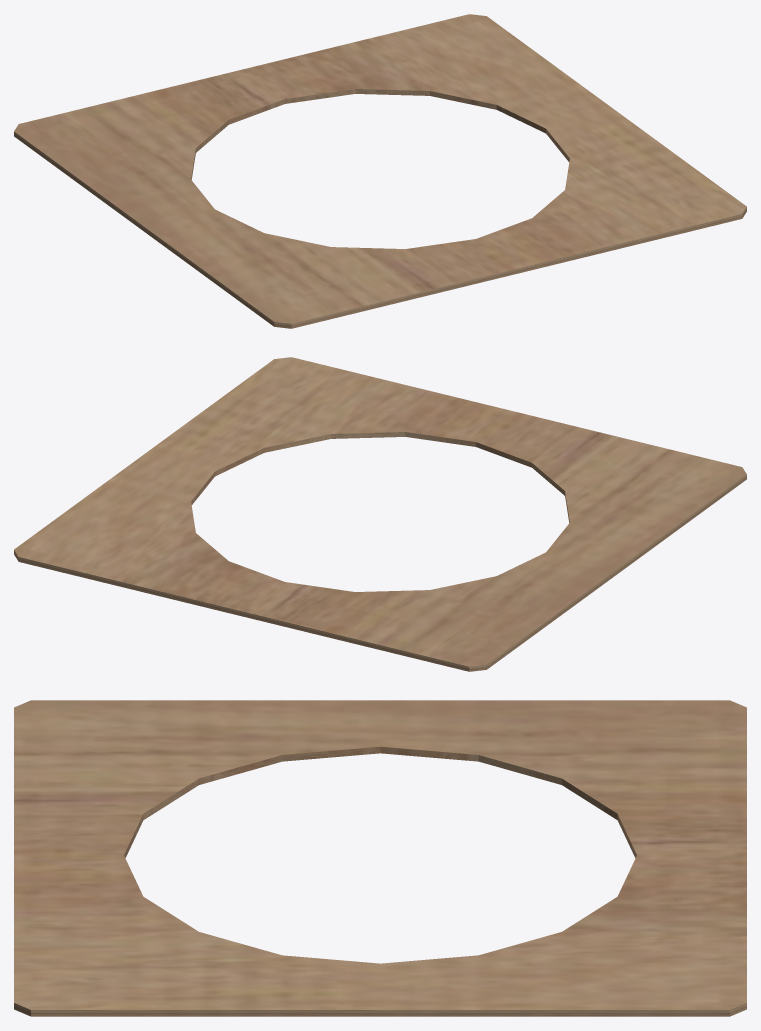
The model's file is holder_base_top.obj.
3 views of the same model, one above another, from view 1: azimuth 30°, elevation 25°; view 2: azimuth 150°, elevation 25°; view 3: azimuth 270°, elevation 25° (orthographic). The views are drawn at different scales.
Visible parts, largest first — view 1: holder_top; view 2: holder_top; view 3: holder_top.
Part boxes in pixels (x1=…): holder_top: x1=14, y1=14, x2=746, y2=328; holder_top: x1=14, y1=357, x2=746, y2=671; holder_top: x1=14, y1=700, x2=746, y2=1016.
Size of the model in its own units: 2 by 0.02 by 2.
